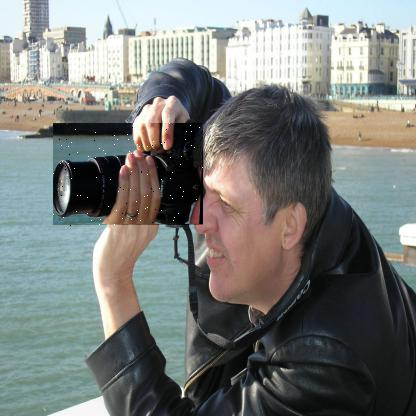Camera: (54, 125, 205, 229)
